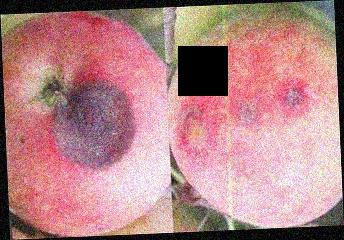rotten apple: (169, 5, 339, 229), (5, 12, 169, 236)
